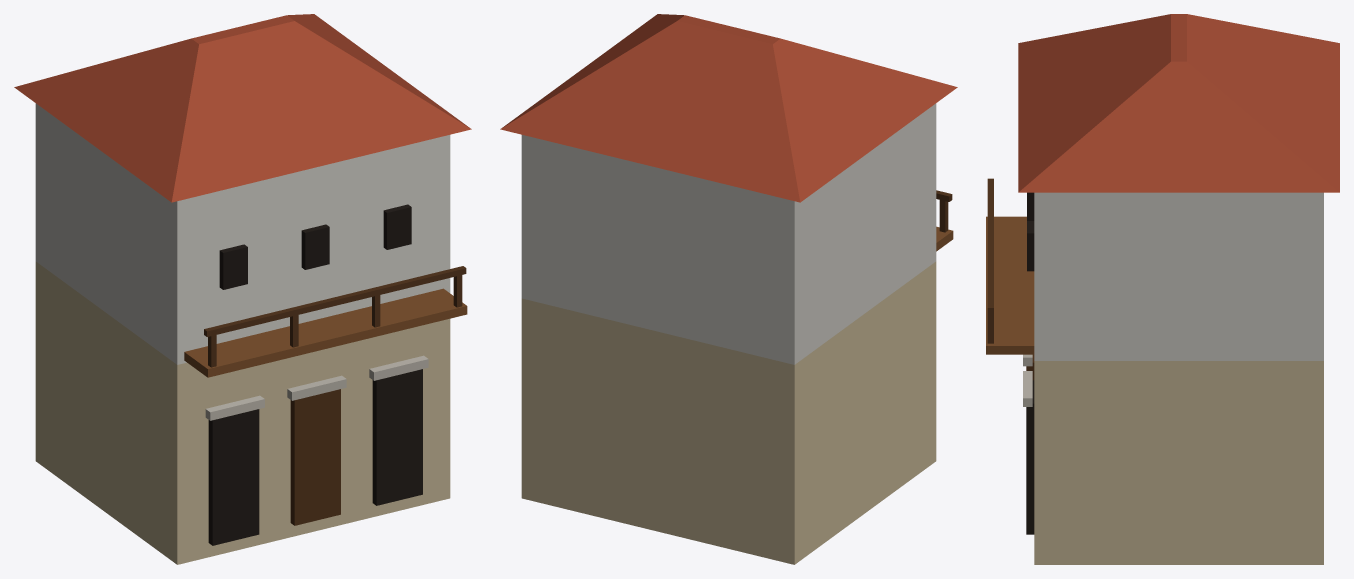
File: angel_house_b.glb
3 renders of one model, left to right at view 1: azimuth 30°, elevation 25°; view 2: azimuth 150°, elevation 25°; view 3: azimuth 270°, elevation 25°, orthographic. The views are drawn at different scales.
Visible parts, largest first — view 1: angel_house_b; view 2: angel_house_b; view 3: angel_house_b.
Boxes of the visible parts, box(x1,y1,x2,y2) form: angel_house_b: box(14, 14, 471, 564); angel_house_b: box(500, 14, 957, 564); angel_house_b: box(986, 14, 1339, 564).
Bounding box in the file's own units: 2.2 × 3.15 × 2.2.
